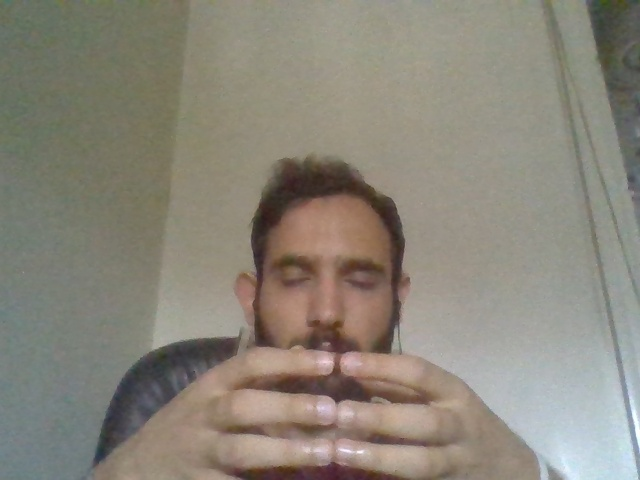Story: (179, 333, 498, 480)
